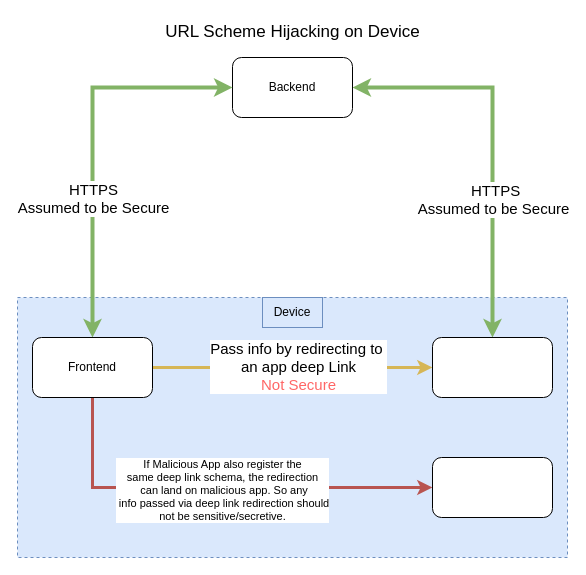
Some shapes in this 586 by 575 pixel diagram are drawn without their labels. Each missing label, with the centre of its shape:
"Client App" goes at (492,367).
"Malicious App" goes at (492,487).
